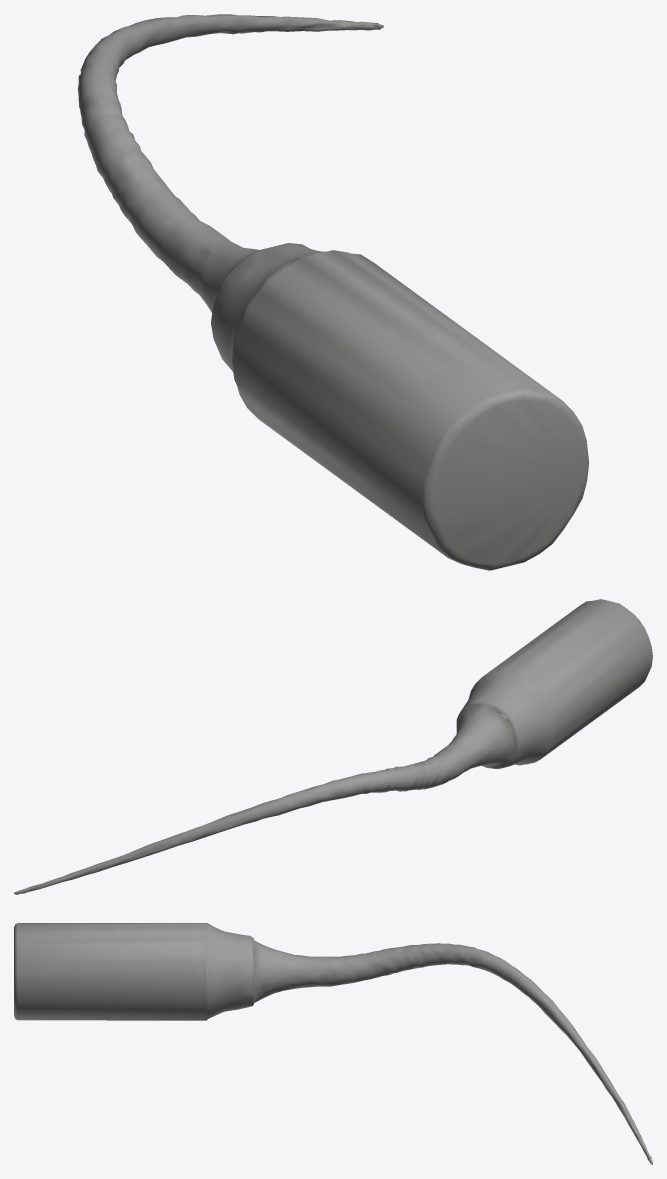
File: perio-scaler.glb
3 views of the same model, one above another, from view 1: azimuth 30°, elevation 25°; view 2: azimuth 150°, elevation 25°; view 3: azimuth 270°, elevation 25° (orthographic). The views are drawn at different scales.
Parts seen in each view (by area): view 1: tripo_node_5f76d71c-c4d9-4476-a90f-b7fa7c125230; view 2: tripo_node_5f76d71c-c4d9-4476-a90f-b7fa7c125230; view 3: tripo_node_5f76d71c-c4d9-4476-a90f-b7fa7c125230.
Boxes of the visible parts, x1=… form: tripo_node_5f76d71c-c4d9-4476-a90f-b7fa7c125230: x1=77, y1=14, x2=589, y2=570; tripo_node_5f76d71c-c4d9-4476-a90f-b7fa7c125230: x1=14, y1=599, x2=652, y2=894; tripo_node_5f76d71c-c4d9-4476-a90f-b7fa7c125230: x1=14, y1=923, x2=652, y2=1164.
Size of the model in its own units: 0.5371 by 0.1934 by 0.998.
1 material, 1 textured.
